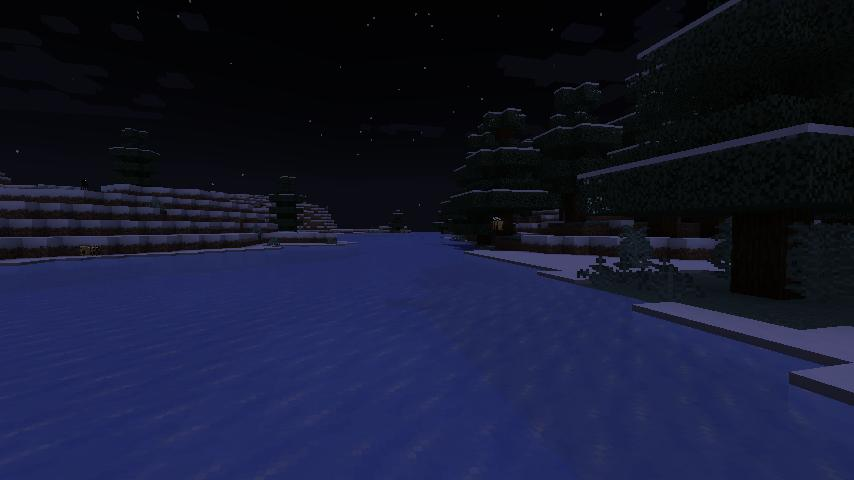bee: (488, 215, 505, 231)
